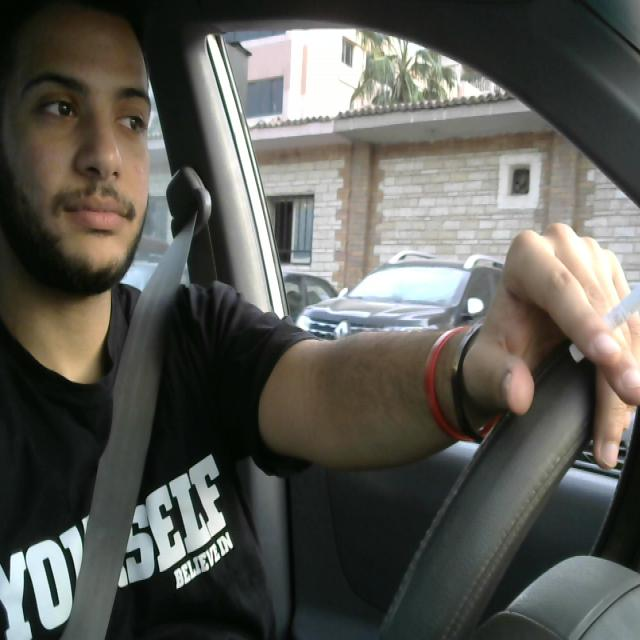smoking: (565, 275, 640, 381)
